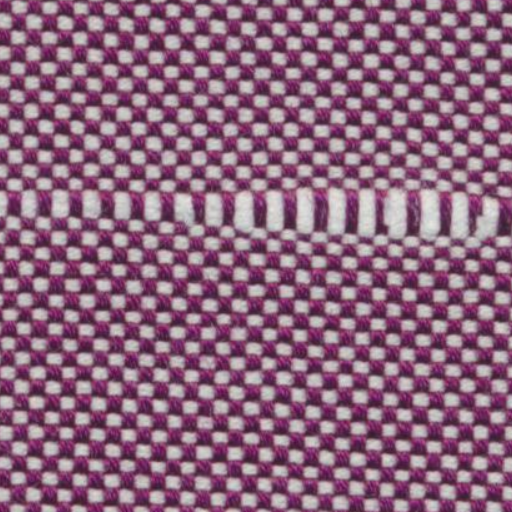DaiSha: (6, 168, 506, 258)
